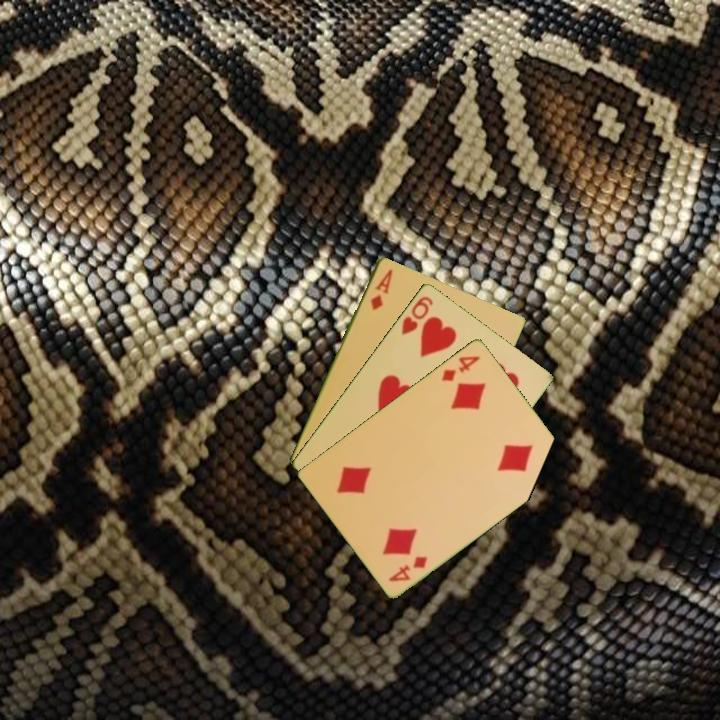4d: (438, 352, 483, 384), (385, 552, 430, 584)
6h: (398, 292, 436, 338)
Ad: (367, 265, 395, 313)
